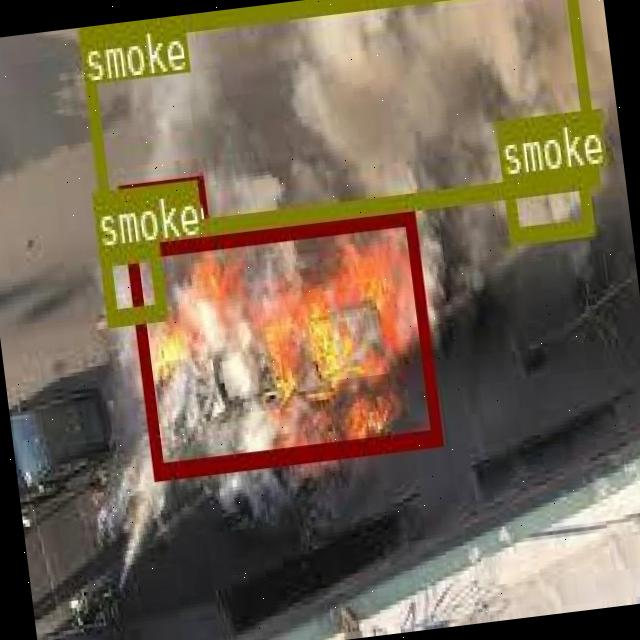fire: (123, 205, 441, 477)
smoke: (77, 0, 596, 242), (501, 166, 592, 242), (98, 240, 164, 322)
